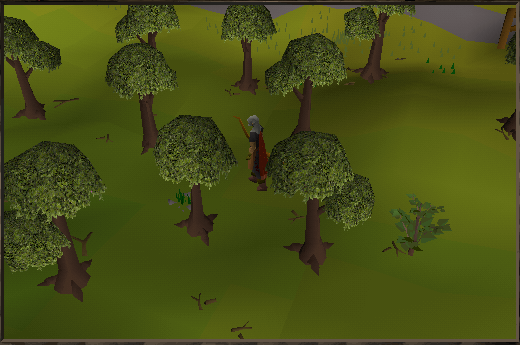Tree: (5, 138, 103, 295), (273, 131, 370, 262), (164, 114, 228, 243), (271, 34, 341, 130), (0, 22, 61, 119), (118, 41, 166, 158), (346, 0, 408, 87), (225, 0, 271, 93)
